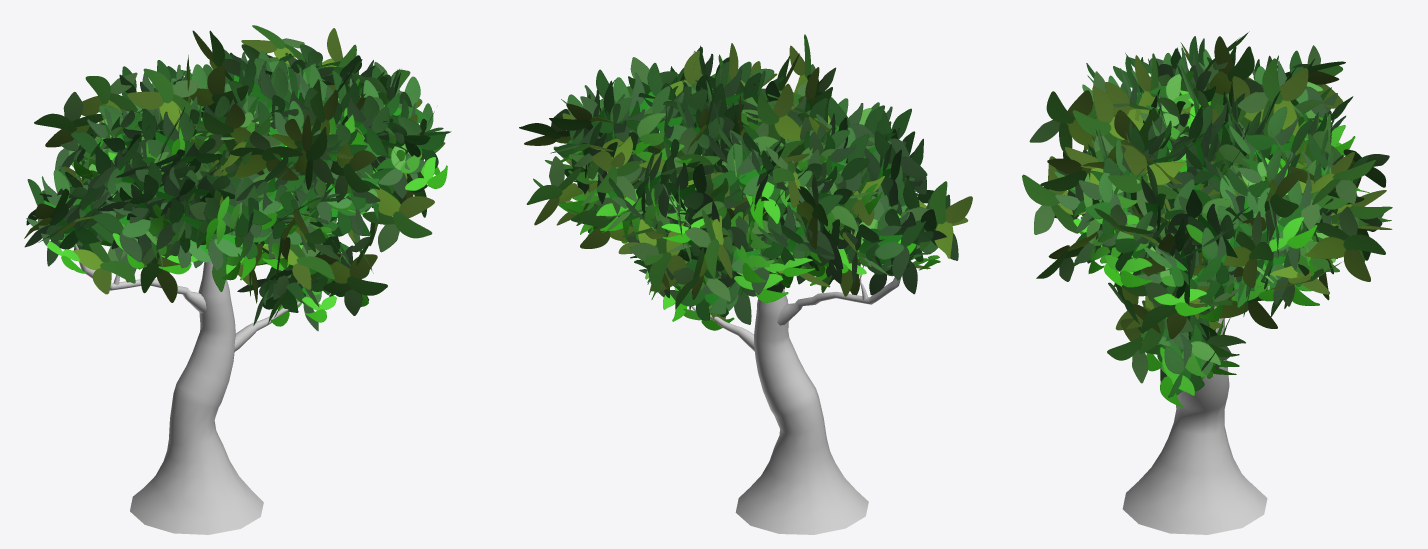
Rendered from pohon1.fbx.
3 renders of one model, left to right at view 1: azimuth 30°, elevation 25°; view 2: azimuth 150°, elevation 25°; view 3: azimuth 270°, elevation 25°, orthographic. The views are drawn at different scales.
Visible parts, largest first — view 1: pohon baru; view 2: pohon baru; view 3: pohon baru.
Boxes of the visible parts, bbox=[...] form: pohon baru: bbox=[24, 25, 451, 534]; pohon baru: bbox=[519, 34, 972, 534]; pohon baru: bbox=[1022, 31, 1392, 534].
Bounding box in the file's own units: 678 × 677 × 511.
